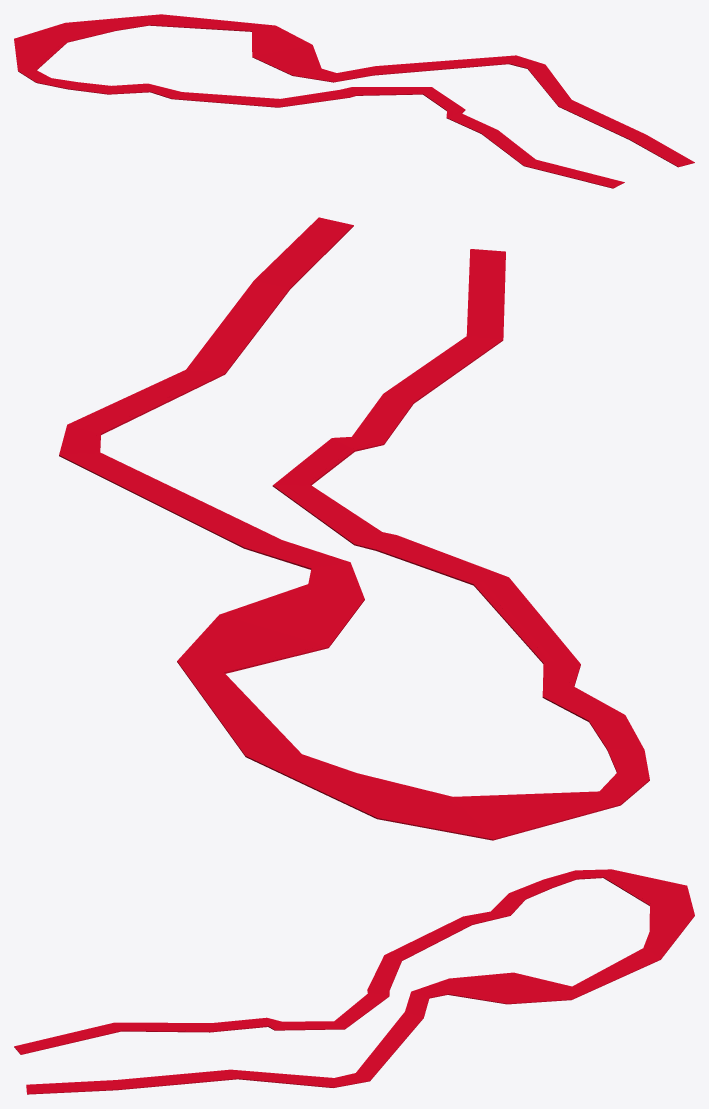
The model's file is LDL.fbx.
The picture shows the model from 3 angles, top to bottom: view 1: azimuth 30°, elevation 25°; view 2: azimuth 150°, elevation 25°; view 3: azimuth 270°, elevation 25°; orthographic projection. The views are drawn at different scales.
Visible parts, largest first — view 1: LDL; view 2: LDL; view 3: LDL.
Part boxes in pixels (bbox=[...]): LDL: bbox=[14, 14, 694, 188]; LDL: bbox=[59, 217, 649, 840]; LDL: bbox=[14, 869, 694, 1094].
Bounding box in the file's own units: 915489 × 1864 × 1173181.
